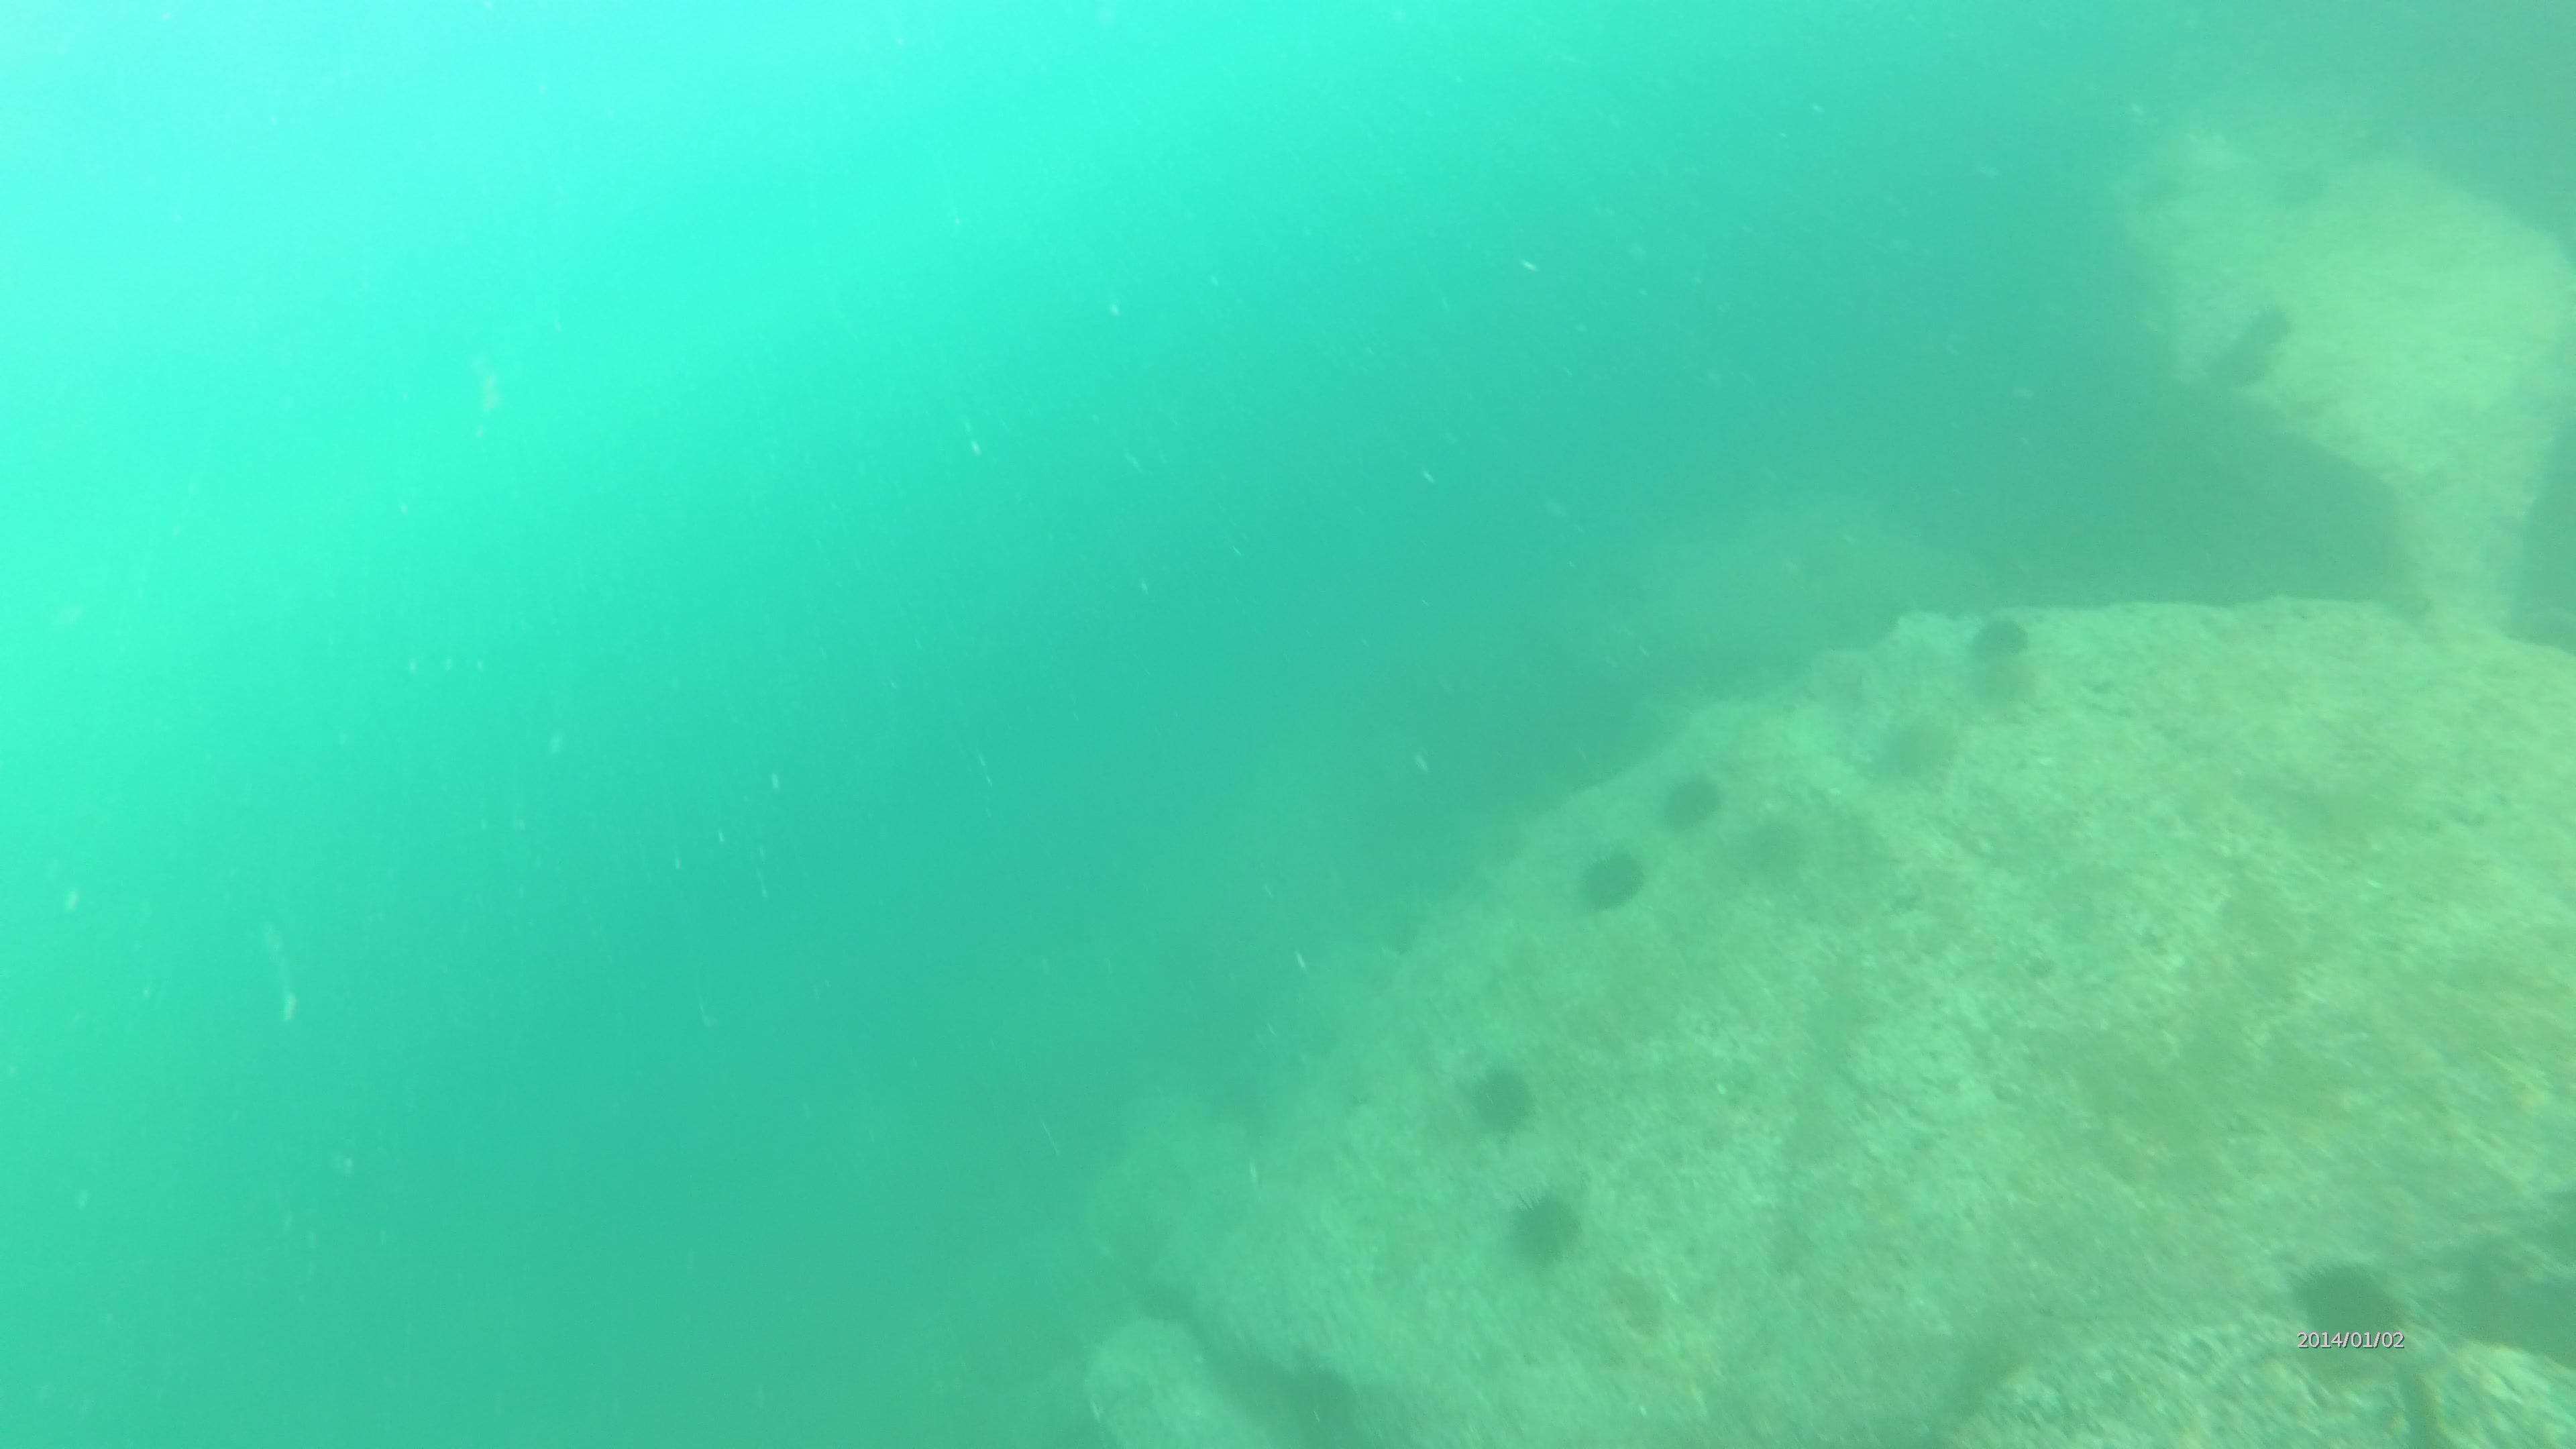echinus: (2296, 1267, 2426, 1350), (1463, 1053, 1532, 1129), (1578, 846, 1645, 920), (1499, 1196, 1575, 1260), (1877, 711, 1936, 784), (1967, 603, 2038, 658), (1654, 766, 1718, 819), (2210, 336, 2279, 380)
